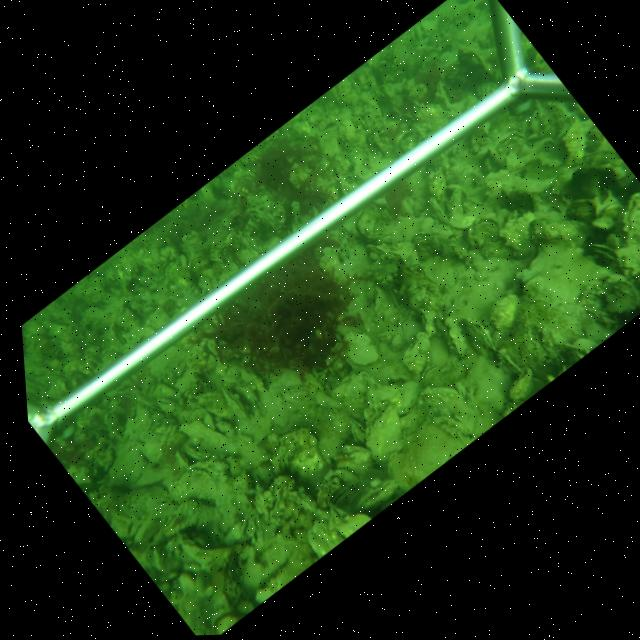Oyster-Closed: (269, 426, 331, 484), (364, 403, 405, 465), (354, 477, 400, 509), (180, 419, 232, 446), (334, 443, 375, 473), (461, 316, 494, 350), (443, 316, 468, 357), (222, 384, 250, 420), (466, 216, 500, 245), (395, 379, 421, 414), (240, 366, 267, 392), (205, 338, 224, 367), (419, 307, 436, 337), (348, 416, 365, 441)
Oyster-Indeterminate: (419, 385, 481, 435), (342, 327, 383, 367)
Oyster-Open: (588, 242, 616, 262)
